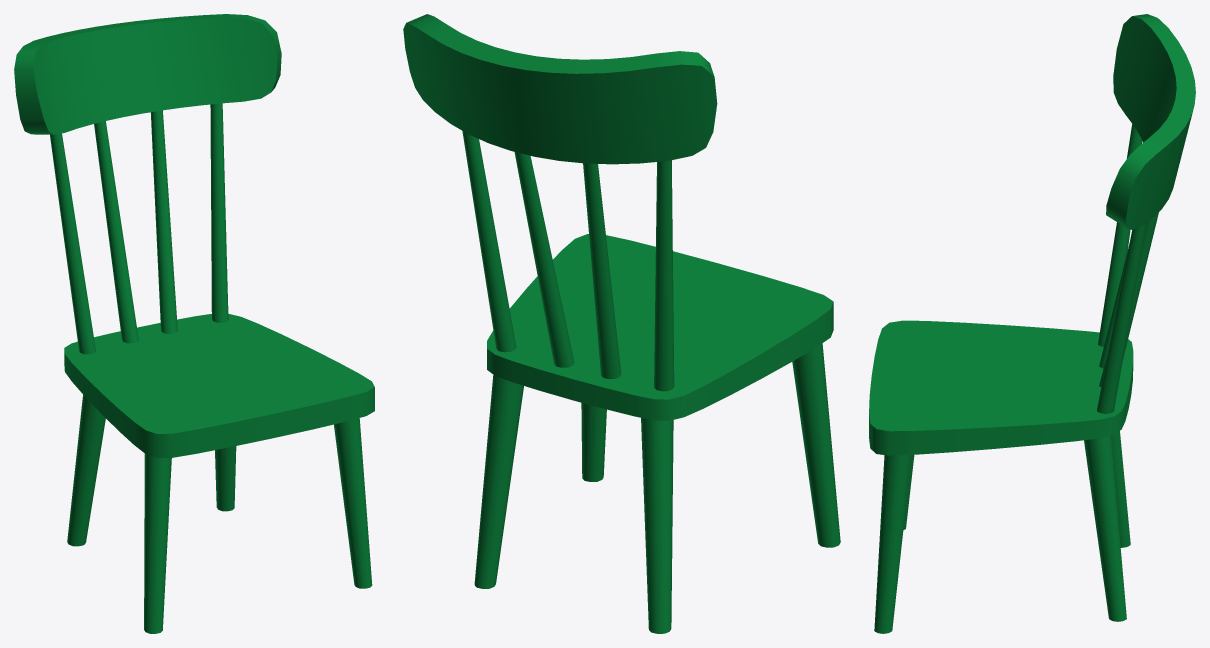
Rendered from Chair.FBX.
The picture shows the model from 3 angles, left to right: view 1: azimuth 30°, elevation 25°; view 2: azimuth 150°, elevation 25°; view 3: azimuth 270°, elevation 25°; orthographic projection. The views are drawn at different scales.
Visible parts, largest first — view 1: Chair; view 2: Chair; view 3: Chair.
Part boxes in pixels (bbox=[...]): Chair: bbox=[14, 14, 374, 633]; Chair: bbox=[403, 14, 840, 633]; Chair: bbox=[869, 14, 1195, 633].
Size of the model in its own units: 79.26 by 143 by 82.75.
